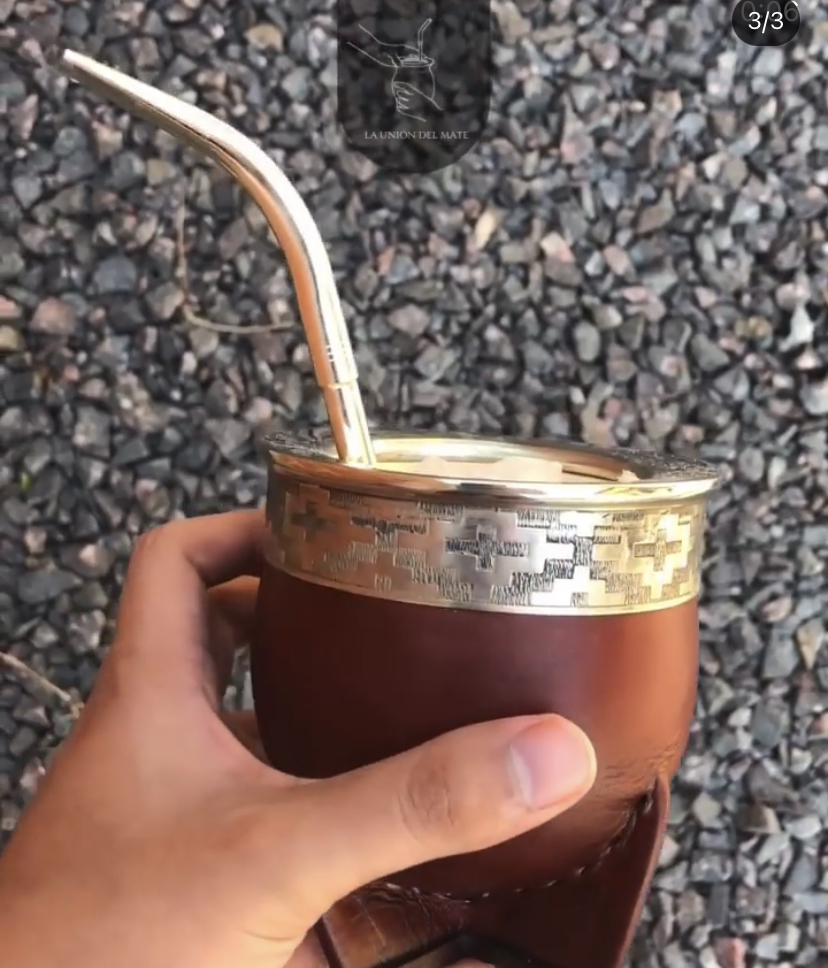calabaza: (224, 402, 709, 968)
mate: (203, 385, 710, 968)
